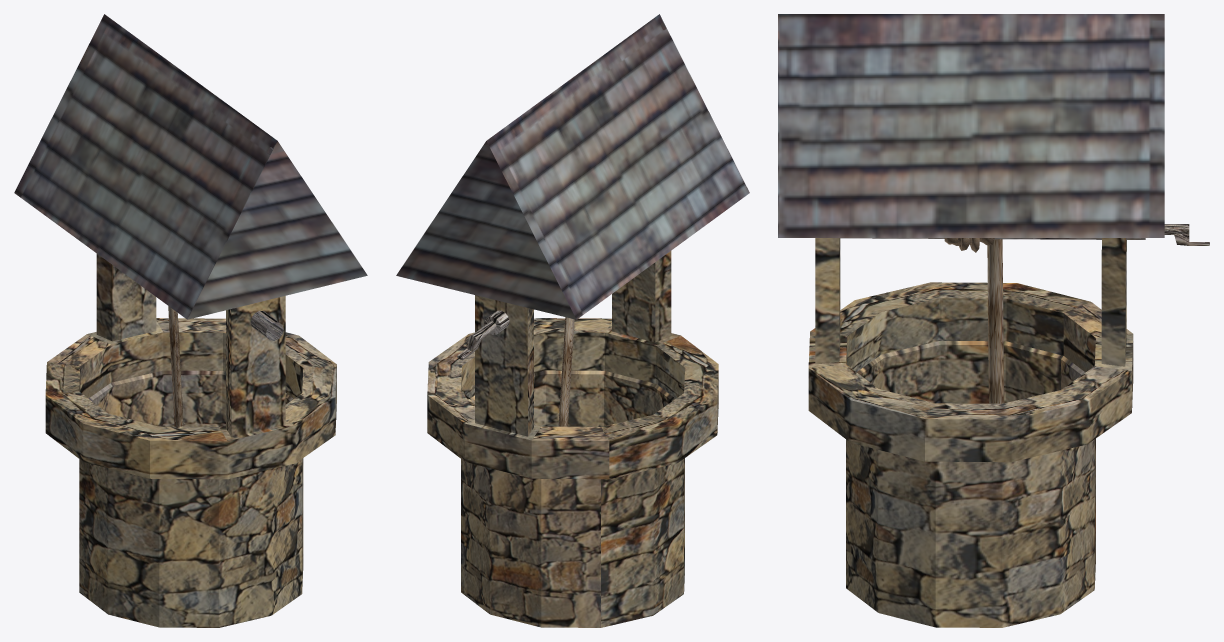
File: model_promp_weel.fbx
The picture shows the model from 3 angles, left to right: view 1: azimuth 30°, elevation 25°; view 2: azimuth 150°, elevation 25°; view 3: azimuth 270°, elevation 25°; orthographic projection. The views are drawn at different scales.
Visible parts, largest first — view 1: weel_base, weel_rope; view 2: weel_base, weel_rope; view 3: weel_base, weel_rope.
Boxes of the visible parts, x1,y1,x2,y2 form: weel_base: (14,14,367,627); weel_rope: (168,306,183,426); weel_base: (396,14,749,627); weel_rope: (558,317,574,426); weel_base: (778,14,1209,627); weel_rope: (944,238,1004,403).
Size of the model in its own units: 252 by 481 by 335.
